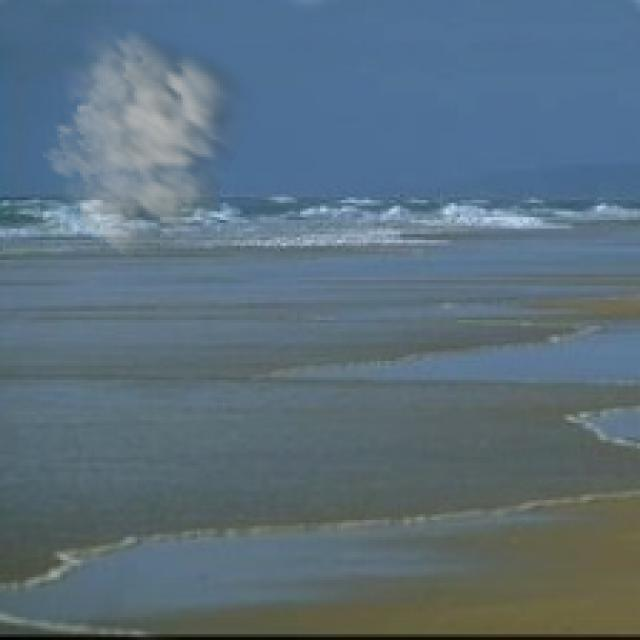smoke: (40, 20, 260, 266)
